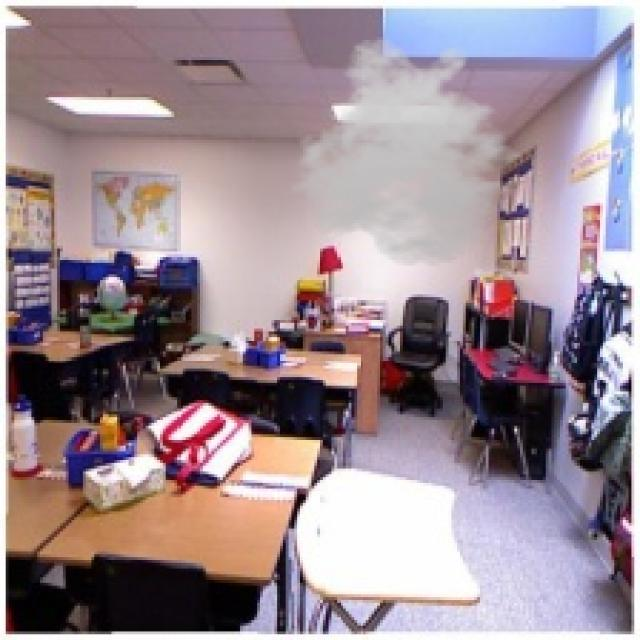Smoke: (288, 37, 538, 269)
